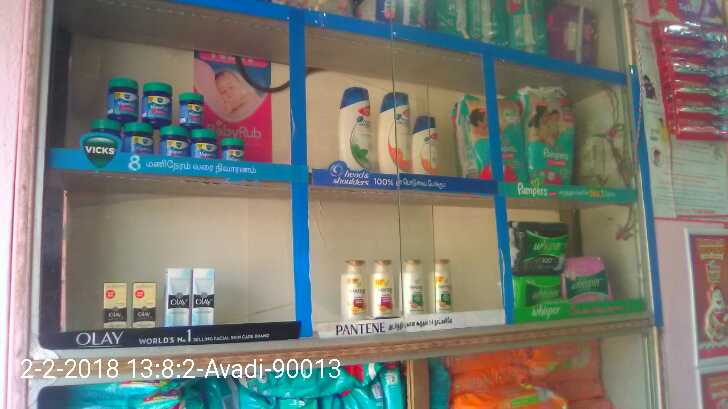vicks: (87, 68, 245, 163)
